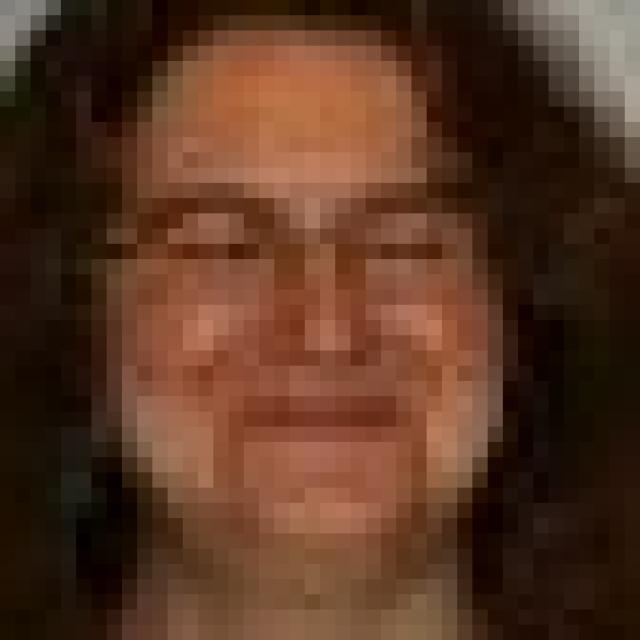Eyeclosed: (362, 222, 447, 278), (167, 227, 262, 274)
